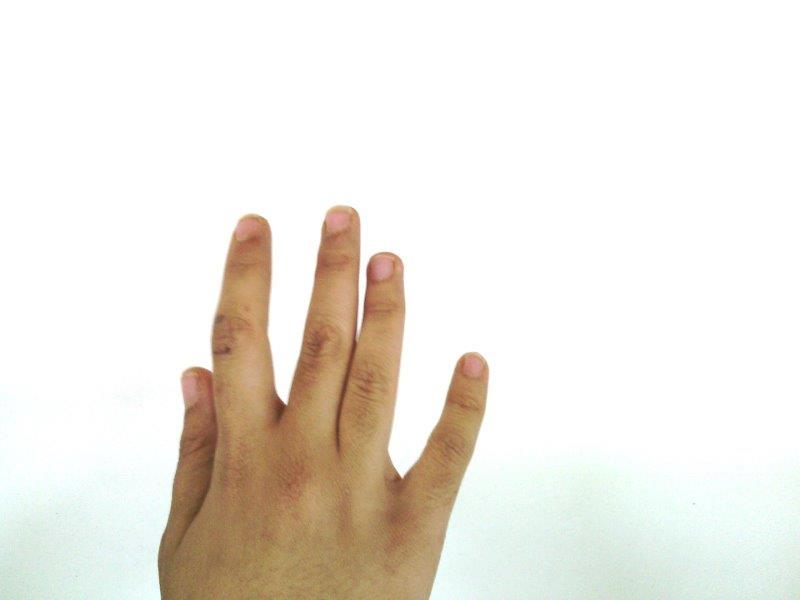hand: (157, 204, 489, 600)
